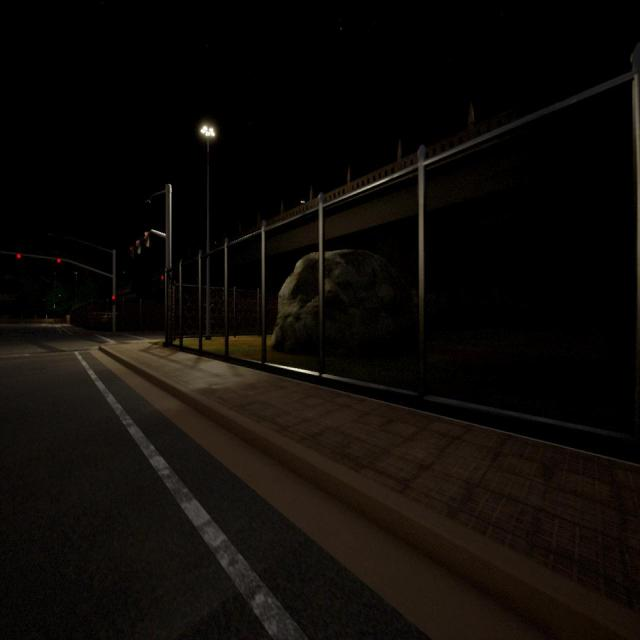traffic_light: (144, 231, 149, 247), (136, 240, 140, 254), (112, 295, 116, 305), (130, 246, 134, 256), (16, 253, 22, 259), (57, 258, 61, 263), (161, 274, 164, 280)
